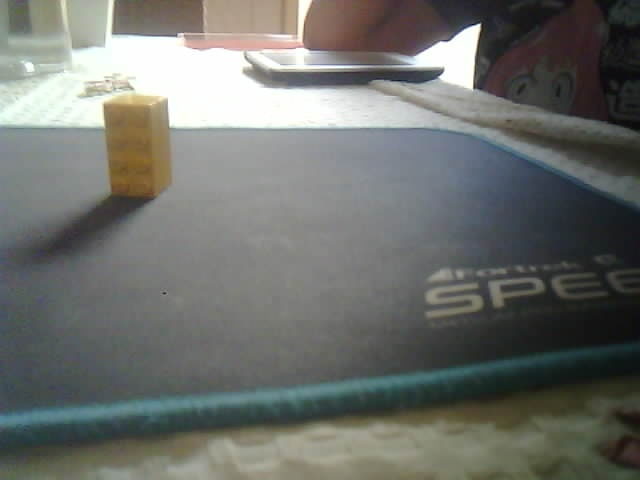lego: (102, 93, 174, 198)
